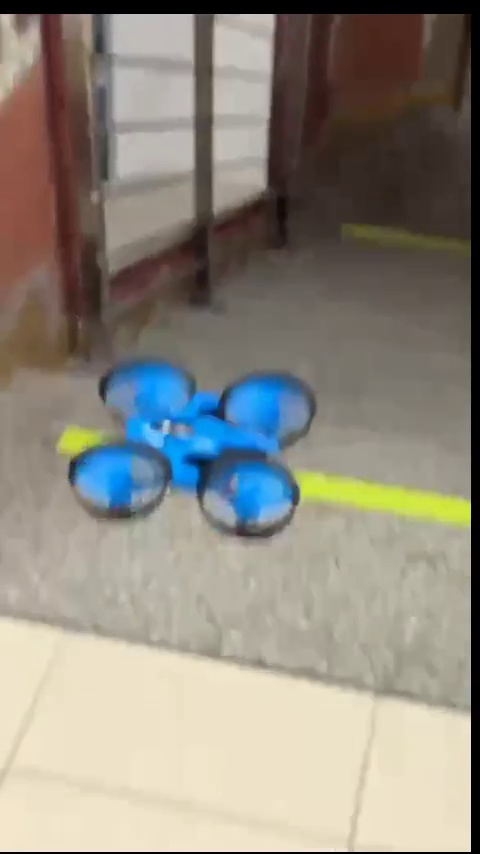drone: (74, 361, 306, 527)
